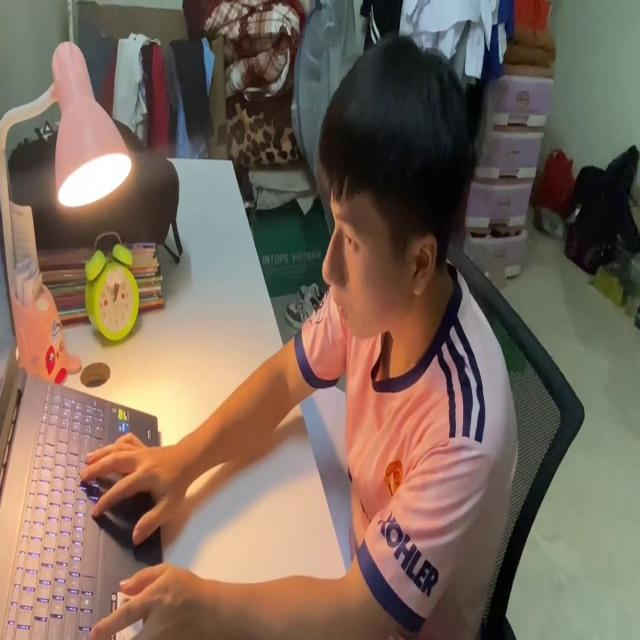book: (300, 379, 356, 575)
laptop: (1, 199, 164, 640)
student: (79, 33, 521, 640)
